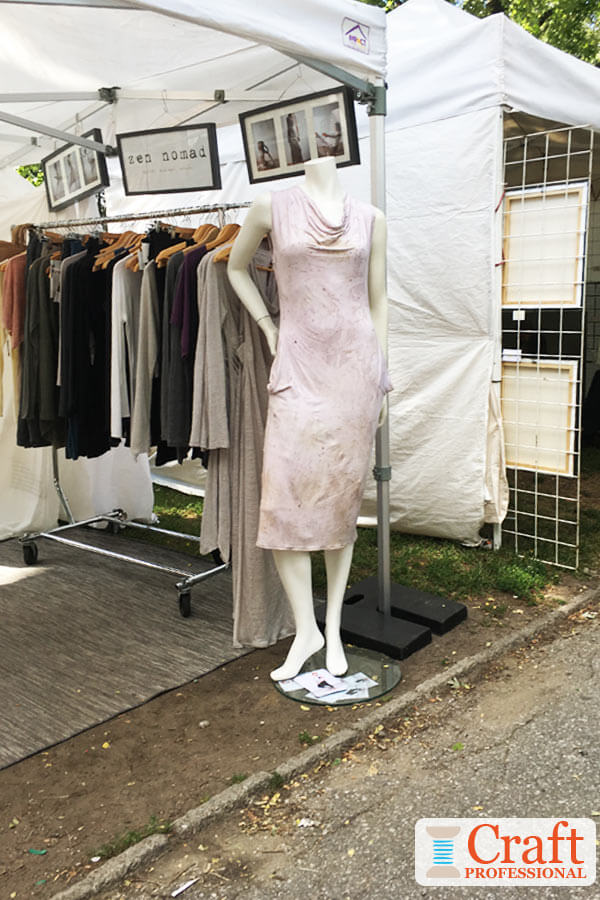person-like: (225, 153, 397, 686)
